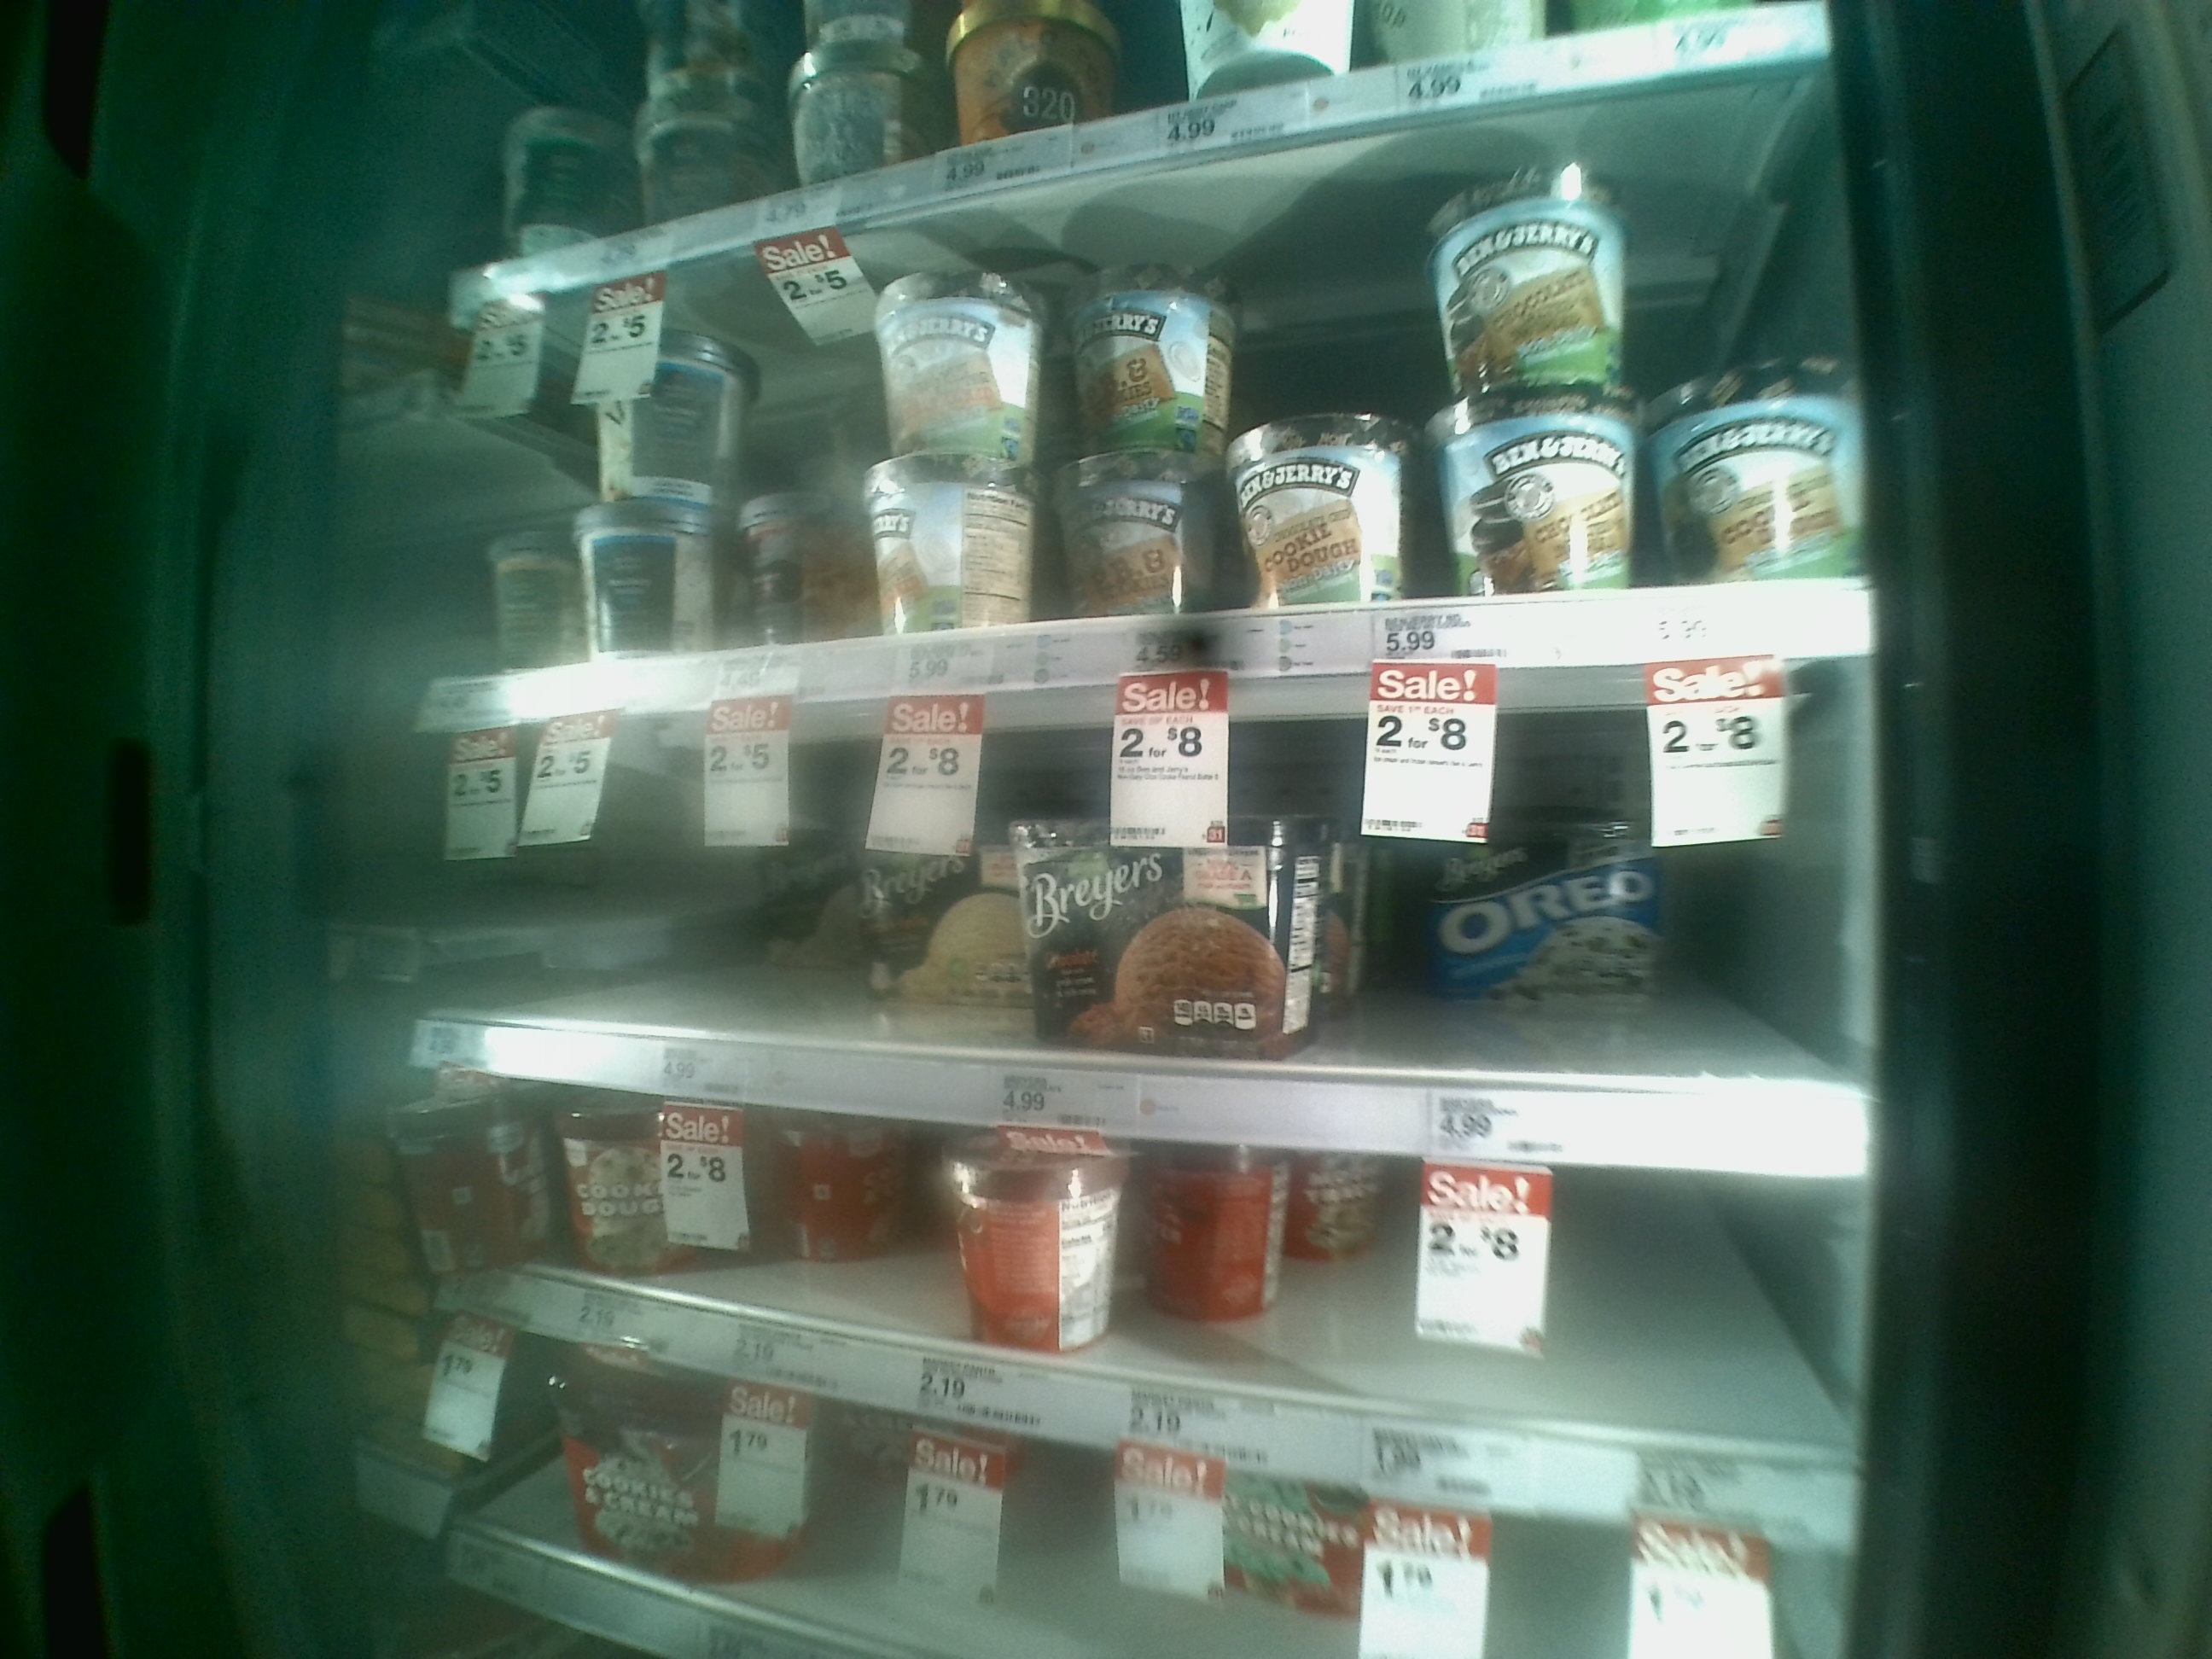shelf: (446, 59, 1872, 746), (421, 647, 1885, 1183)
